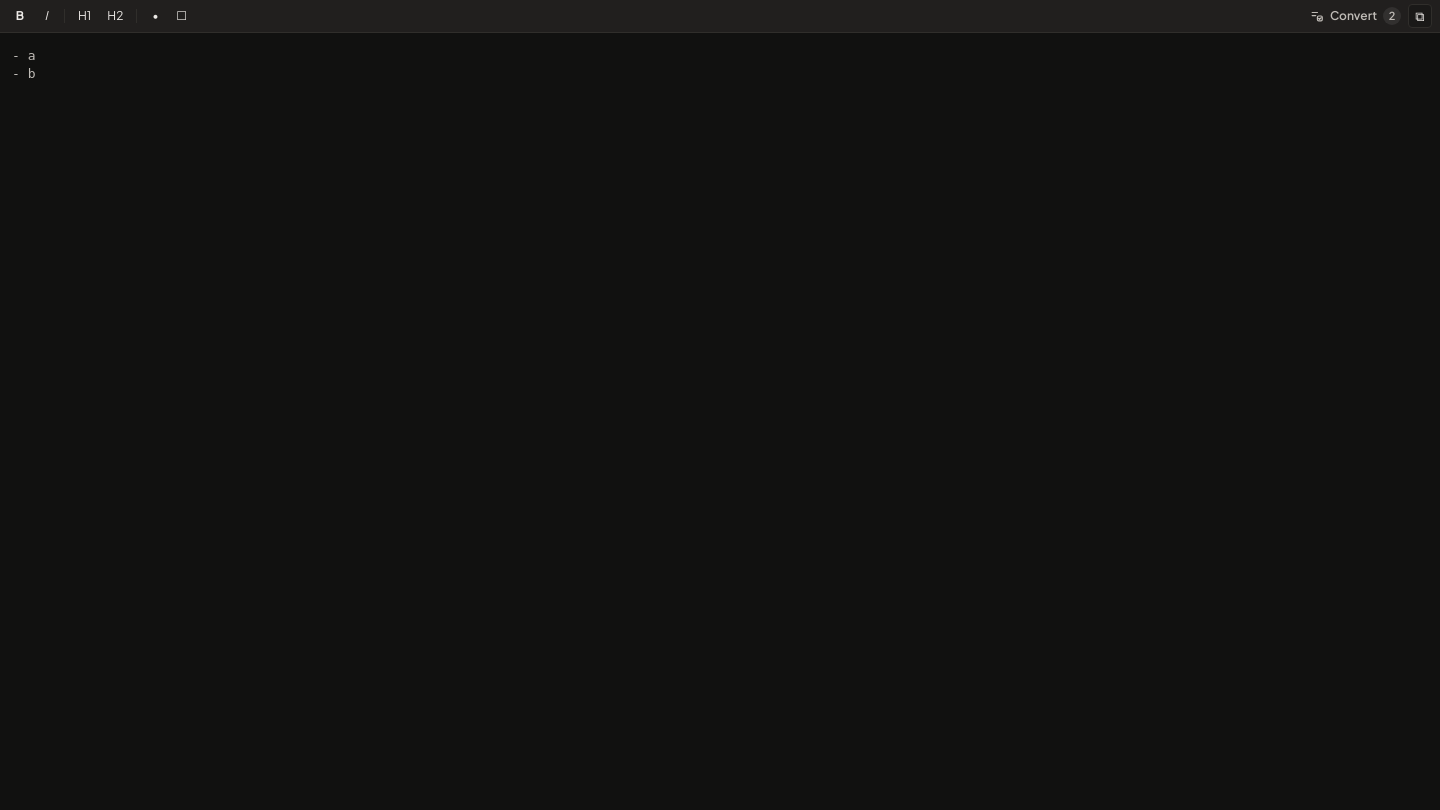
Test case: Convert preview › removing every draft leaves "No drafts left" and disables Create
Click the button "Convert 2" at (1354, 16), box [1303,4,1406,28]
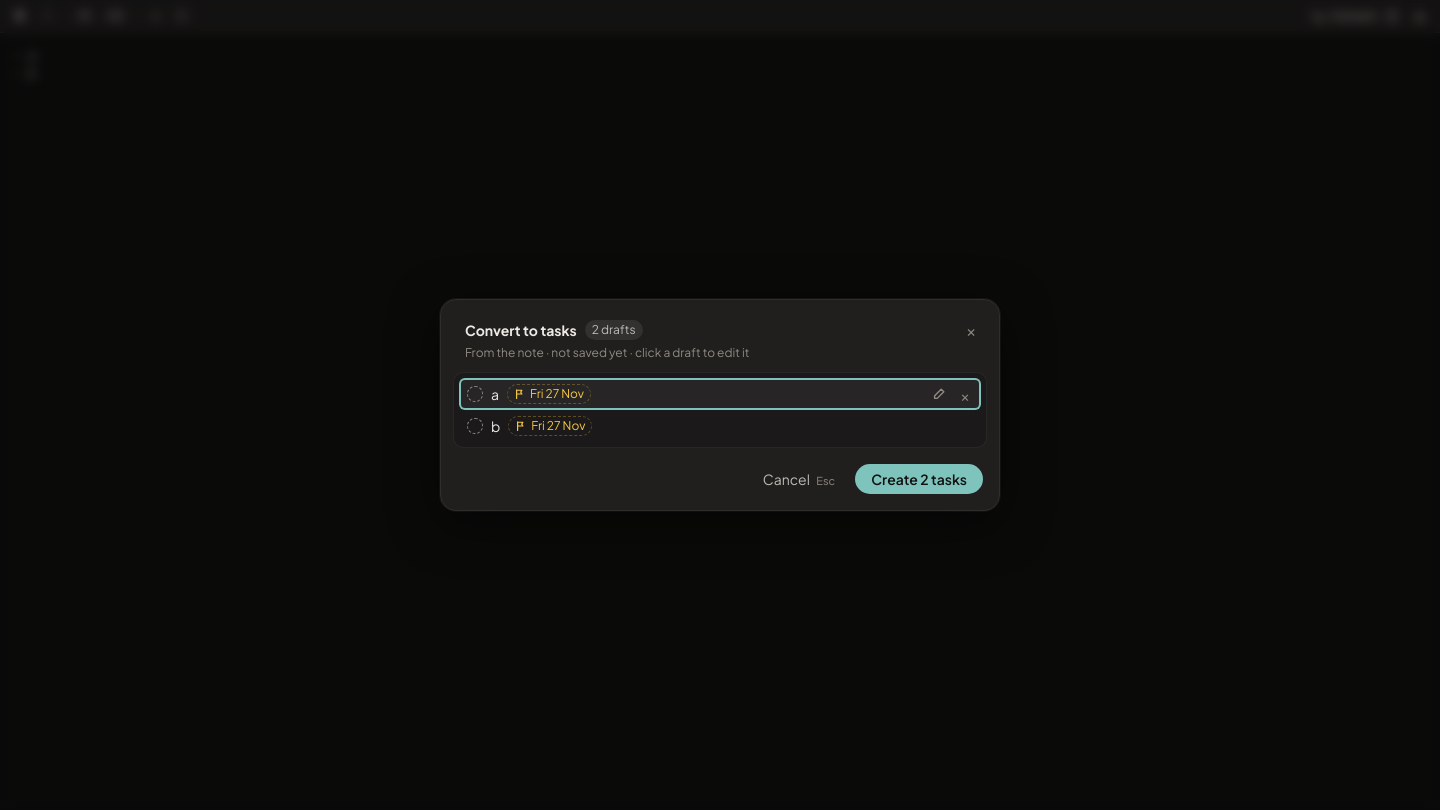
Press Delete in the list item "a", box [459,378,981,410]
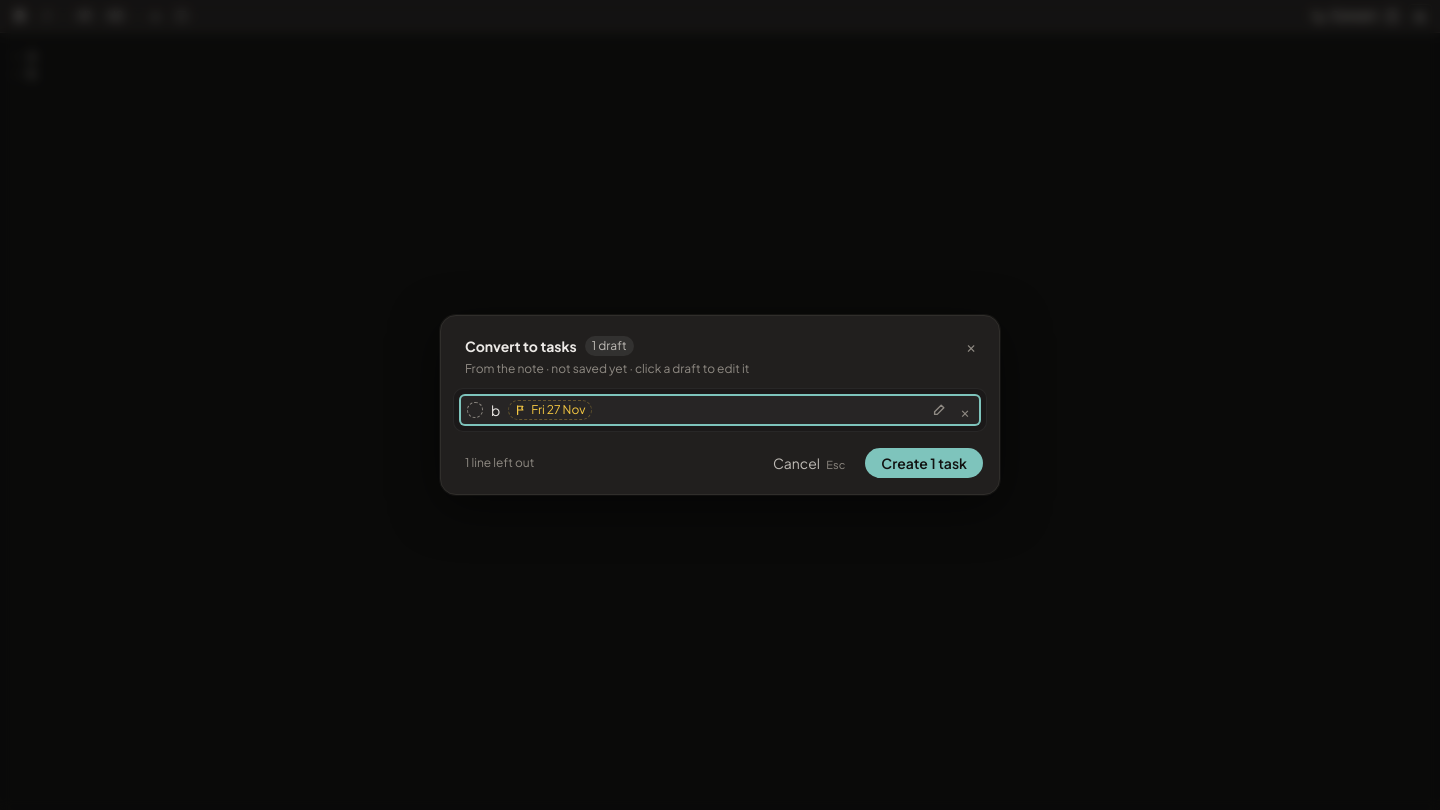
Click the button named "Remove \"b\"" at (965, 410), box [953,398,977,422]
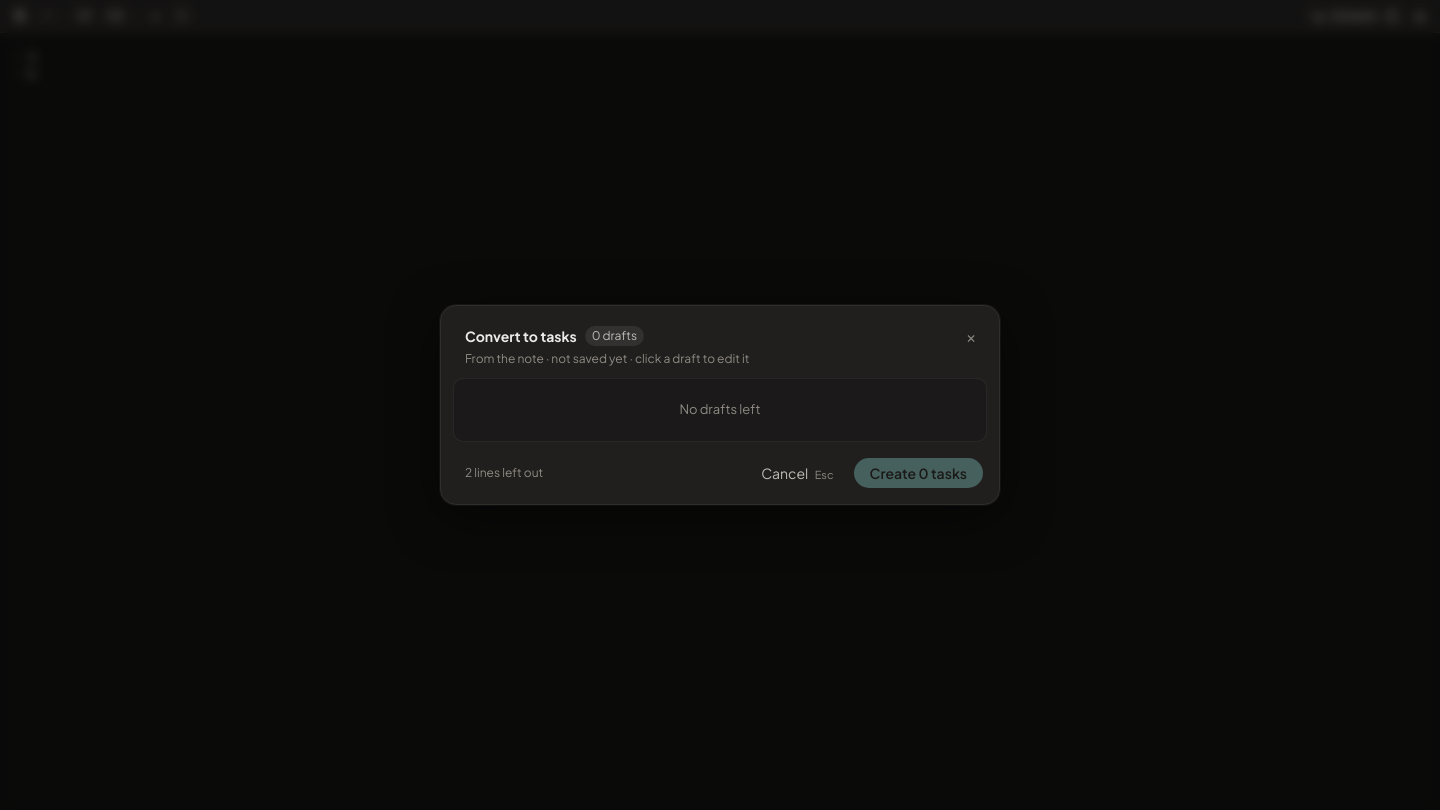
Result: the list item "No drafts left" is shown at [679,401,761,417]
Result: the button "Create 0 tasks" is disabled at [854,458,983,488]
